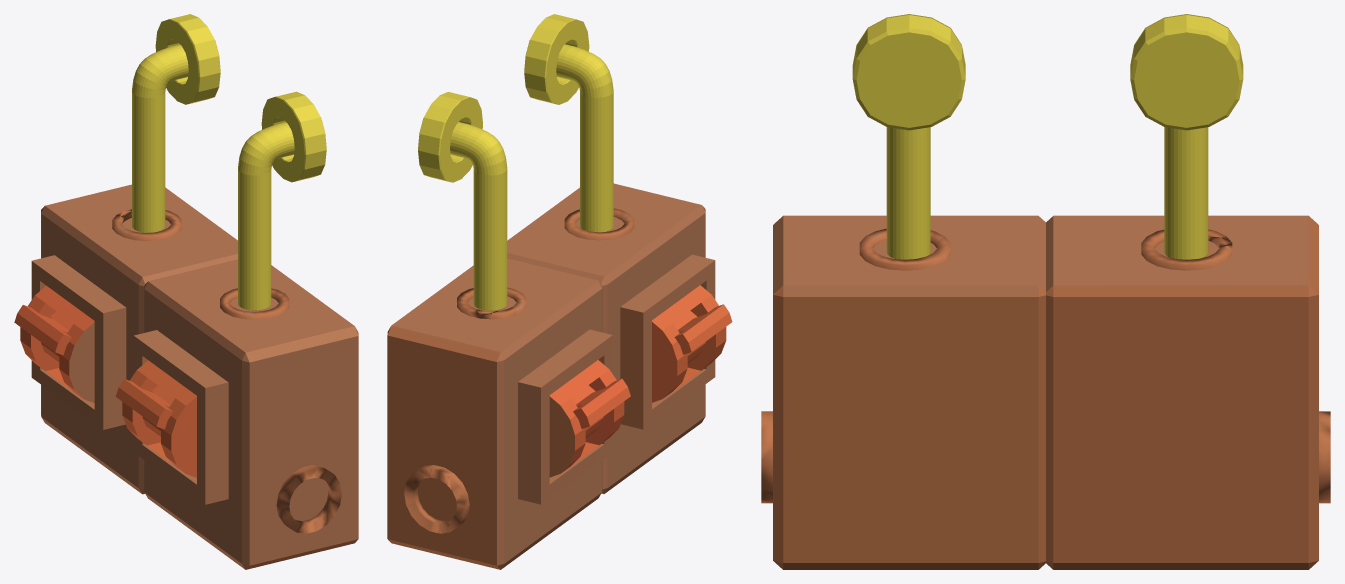
File: DoubleWallSwitch.fbx
3 views of the same model, side by side, from view 1: azimuth 30°, elevation 25°; view 2: azimuth 150°, elevation 25°; view 3: azimuth 270°, elevation 25° (orthographic). The views are drawn at different scales.
Parts seen in each view (by area): view 1: Cube.013; view 2: Cube.013; view 3: Cube.013.
Part boxes in pixels (x1,y1,x2,y2): Cube.013: (14,14,358,569); Cube.013: (387,14,732,569); Cube.013: (761,14,1330,569).
Size of the model in its own units: 67.37 by 154 by 147.
